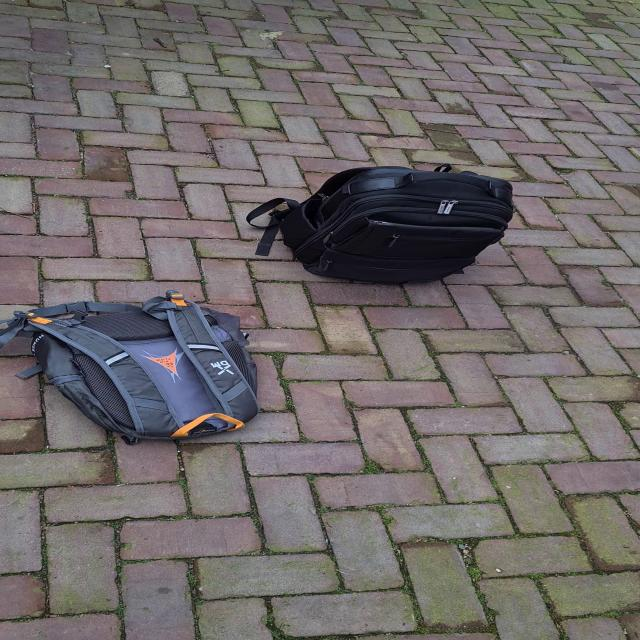backpack: (3, 287, 270, 445), (262, 161, 521, 288)
